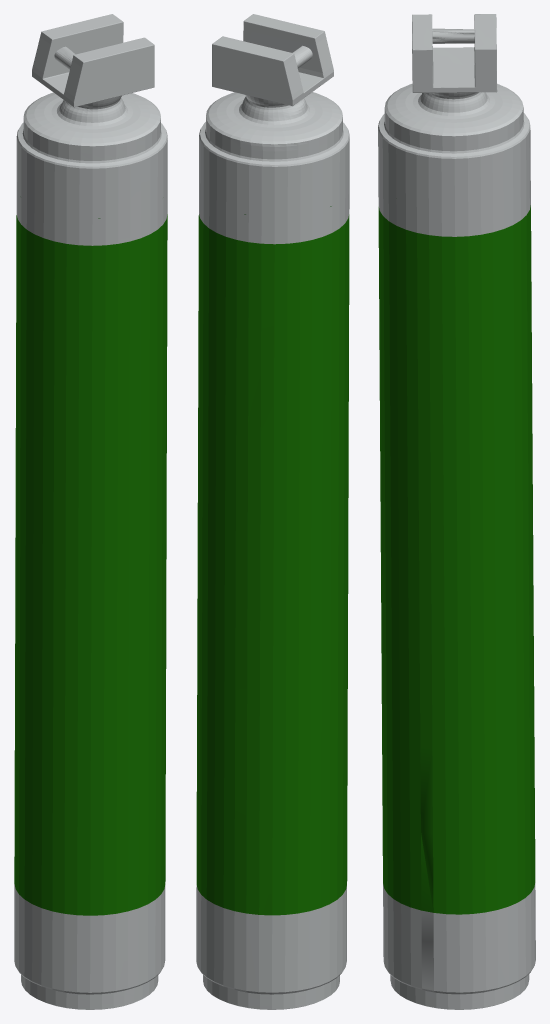
File: endo-handle.fbx
3 renders of one model, left to right at view 1: azimuth 30°, elevation 25°; view 2: azimuth 150°, elevation 25°; view 3: azimuth 270°, elevation 25°, orthographic.
Parts seen in each view (by area): view 1: Object.002; view 2: Object.002; view 3: Object.002.
Part boxes in pixels (bbox=[...]): Object.002: bbox=[14, 14, 167, 1009]; Object.002: bbox=[196, 14, 349, 1009]; Object.002: bbox=[378, 14, 535, 1009].
Size of the model in its own units: 1.79 by 12.36 by 1.86.
